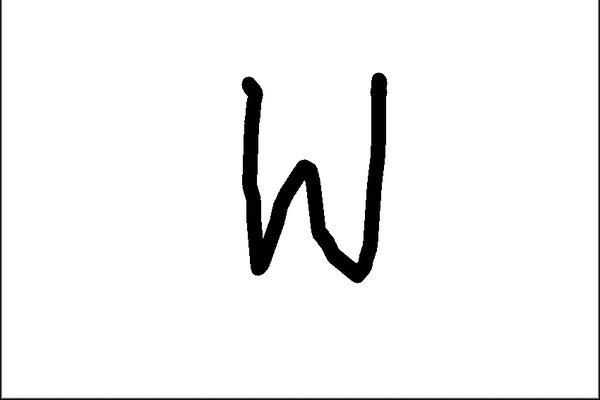w: (216, 55, 402, 297)
